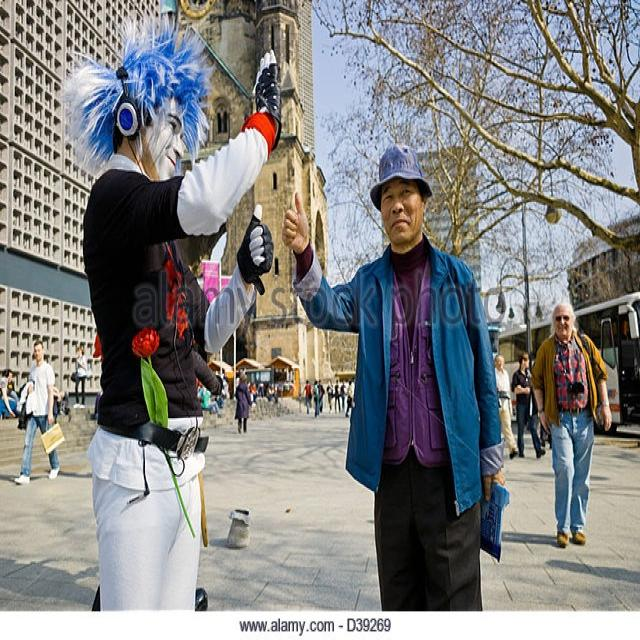body: (63, 13, 284, 614), (280, 142, 511, 613), (529, 300, 613, 550), (12, 338, 62, 487), (508, 348, 548, 460), (493, 351, 521, 461), (0, 464, 93, 484), (195, 371, 230, 419), (498, 526, 566, 548), (246, 377, 294, 408), (232, 371, 253, 435), (71, 345, 89, 411), (0, 366, 19, 421), (535, 421, 556, 452), (301, 378, 313, 415), (344, 378, 355, 418), (311, 378, 321, 419), (332, 376, 342, 414), (316, 378, 326, 415), (325, 378, 334, 414), (339, 378, 347, 411)
